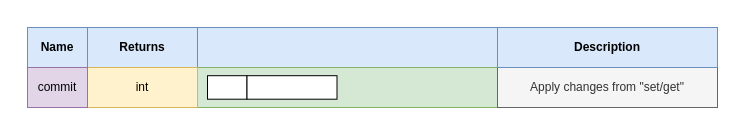
This 744x134 diagram has some shape labels left out. Here are the shapes that lost their labels. From the top down, the centre of each, then its label:
At point (347, 47): "Parameters".
At point (226, 87): "path".
At point (291, 87): "Registry Path".
